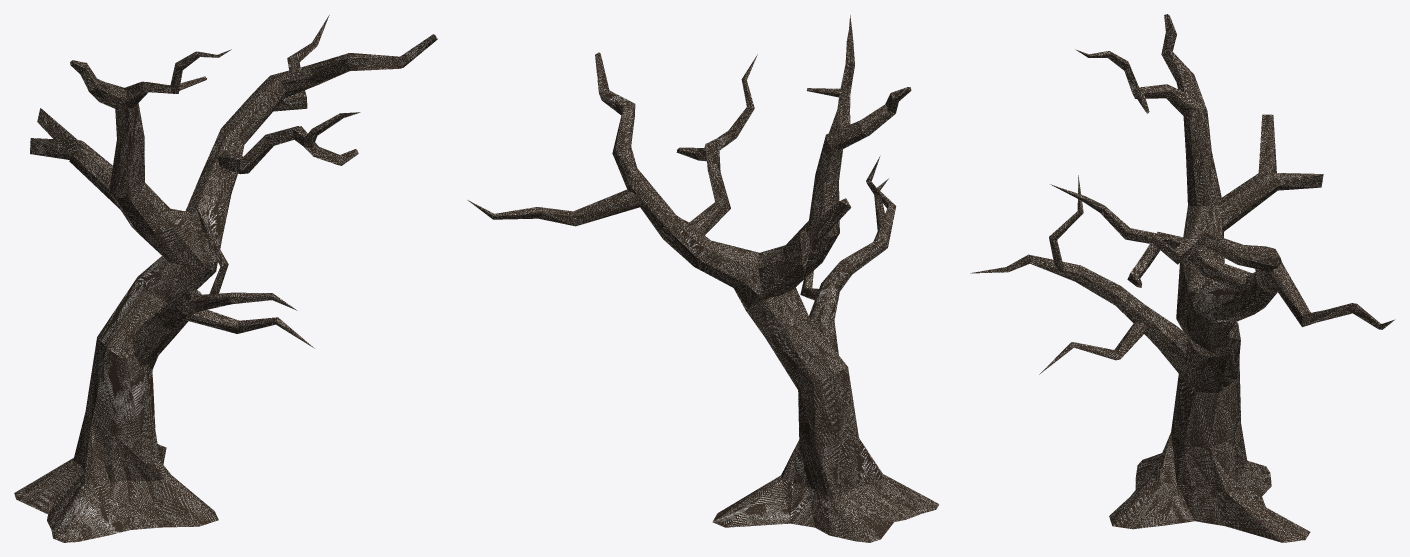
File: Graveyard_Tree_Dead_Large_01.fbx
3 renders of one model, left to right at view 1: azimuth 30°, elevation 25°; view 2: azimuth 150°, elevation 25°; view 3: azimuth 270°, elevation 25°, orthographic. The views are drawn at different scales.
Visible parts, largest first — view 1: Model; view 2: Model; view 3: Model.
Part boxes in pixels (<box>): Model: <box>14,15,437,542</box>; Model: <box>467,15,939,542</box>; Model: <box>970,14,1394,542</box>.
Bounding box in the file's own units: 1584 × 1845 × 1506.
